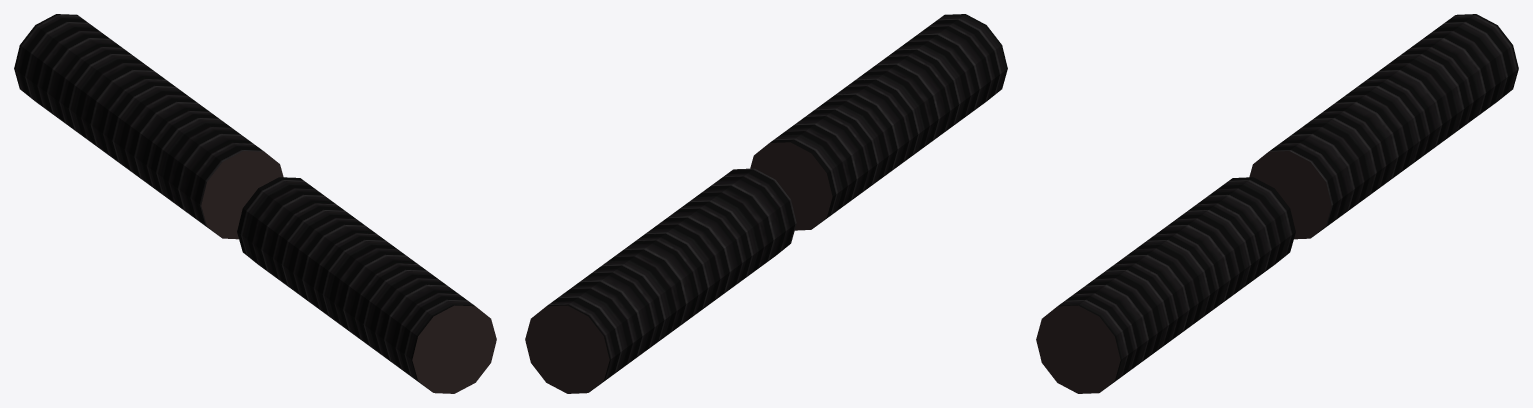
Rendered from jyz435-geode.glb.
The picture shows the model from 3 angles, left to right: view 1: azimuth 30°, elevation 25°; view 2: azimuth 150°, elevation 25°; view 3: azimuth 330°, elevation 25°; orthographic projection.
Visible parts, largest first — view 1: Node; view 2: Node; view 3: Node.
Part boxes in pixels (<box>): Node: <box>14,14,496,393</box>; Node: <box>525,14,1007,393</box>; Node: <box>1036,14,1518,393</box>.
Bounding box in the file's own units: 0.2983 × 0.2983 × 2.43.
Materials: 2 (2 with a texture image).
